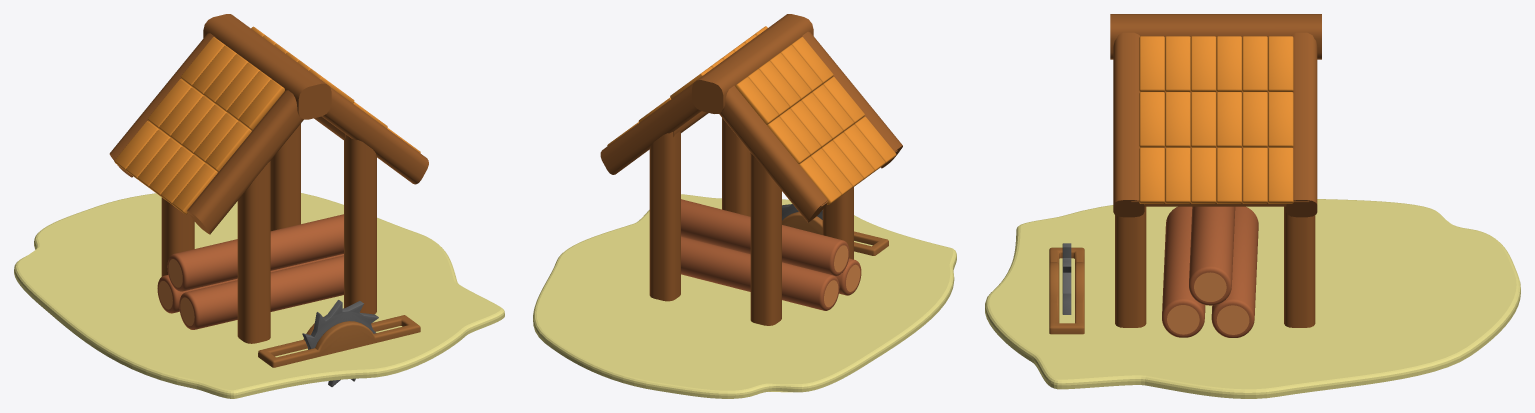
Rendered from lumber with base.fbx.
3 renders of one model, left to right at view 1: azimuth 30°, elevation 25°; view 2: azimuth 150°, elevation 25°; view 3: azimuth 270°, elevation 25°, orthographic. The views are drawn at different scales.
Parts seen in each view (by area): view 1: Cylinder.308, Cylinder.306; view 2: Cylinder.308; view 3: Cylinder.308, Cylinder.306.
Boxes of the visible parts, x1,y1,x2,y2 form: Cylinder.308: [14, 14, 504, 398]; Cylinder.306: [302, 300, 378, 386]; Cylinder.308: [533, 14, 956, 398]; Cylinder.308: [985, 14, 1520, 398]; Cylinder.306: [1062, 243, 1071, 314].
Size of the model in its own units: 19323 by 14627 by 22425.
